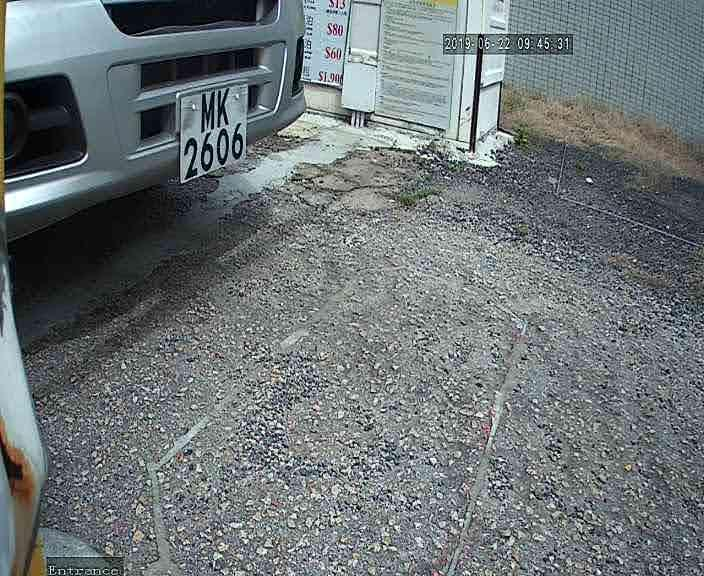bottom_left_lp: (177, 176, 185, 188)
bottom_right_lp: (243, 155, 251, 161)
top_left_lp: (173, 89, 183, 104)
top_right_lp: (241, 75, 251, 86)
